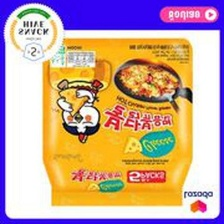snack: (35, 33, 198, 213)
